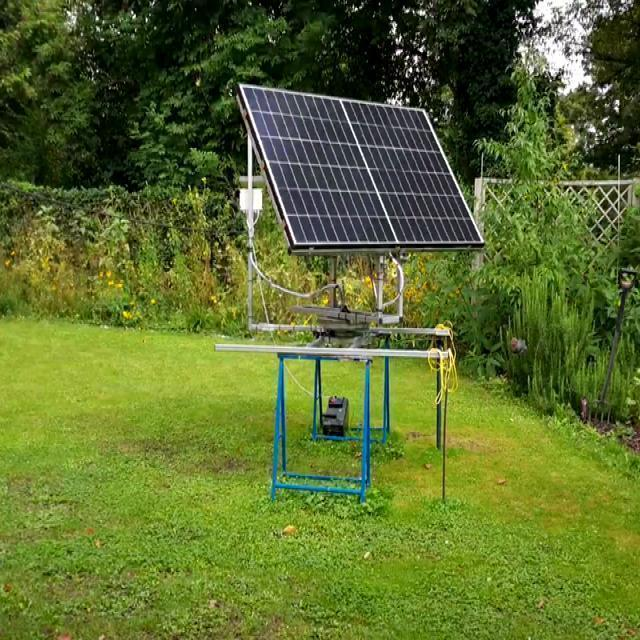Normal Solar Panel: (239, 84, 485, 249)
